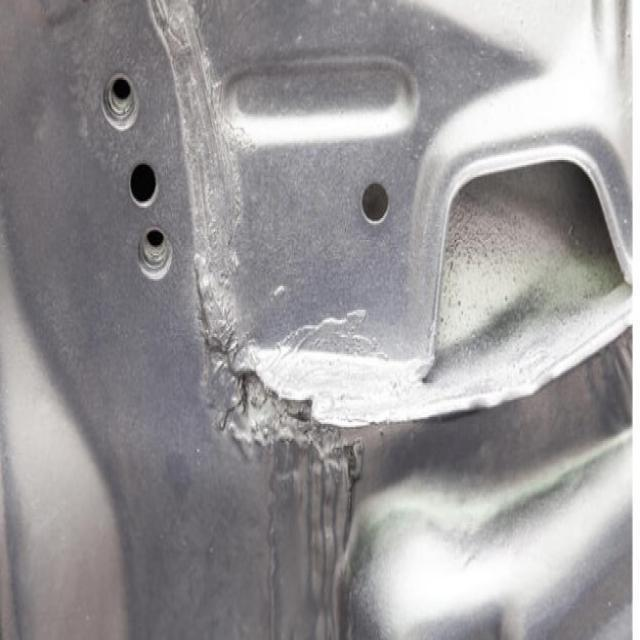Crack: (192, 237, 370, 571)
